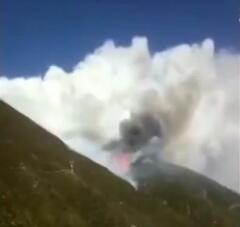yanwu: (0, 36, 239, 175)
